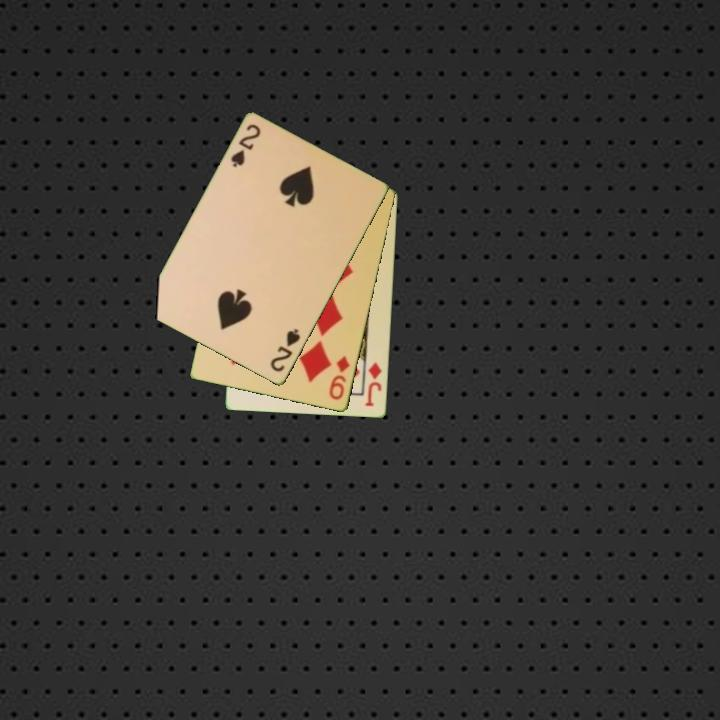2s: (267, 325, 304, 375), (227, 121, 264, 171)
9d: (326, 353, 353, 403)
Jd: (362, 358, 385, 409)
